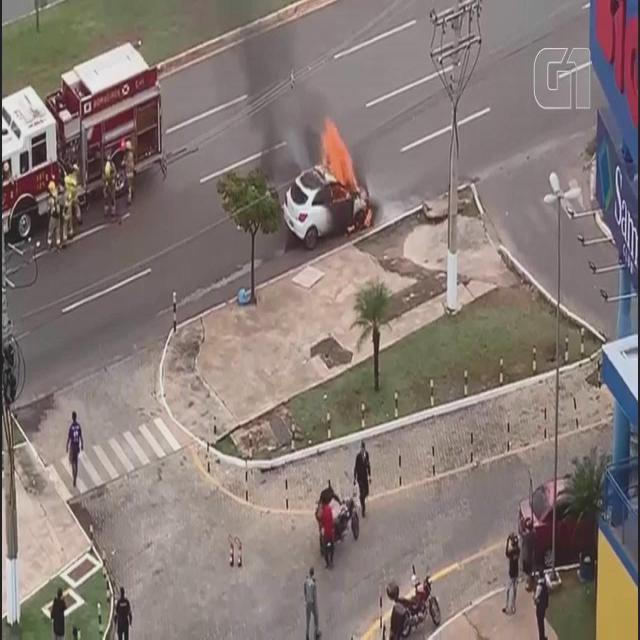Fire: (317, 118, 359, 190), (363, 208, 373, 228)
